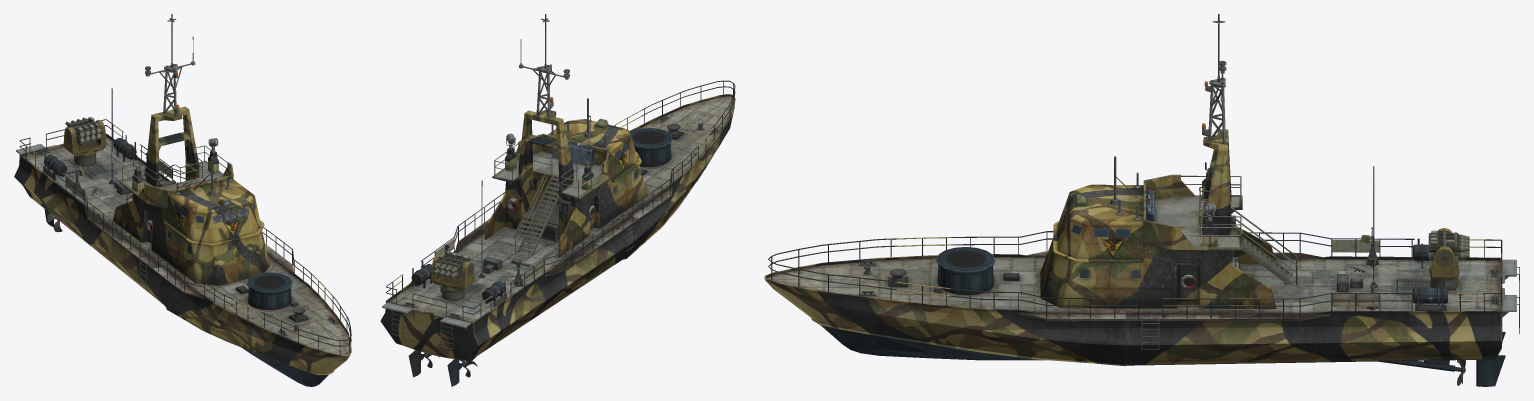
The model's file is Crocodile Gunboat.obj.
The picture shows the model from 3 angles, left to right: view 1: azimuth 30°, elevation 25°; view 2: azimuth 150°, elevation 25°; view 3: azimuth 270°, elevation 25°; orthographic projection. The views are drawn at different scales.
Visible parts, largest first — view 1: DrawCall_0657, DrawCall_0652, DrawCall_0668, DrawCall_0671, DrawCall_0672, DrawCall_0781; view 2: DrawCall_0657, DrawCall_0652, DrawCall_0668, DrawCall_0671, DrawCall_0672, DrawCall_0666, DrawCall_0658; view 3: DrawCall_0652, DrawCall_0657, DrawCall_0668, DrawCall_0672, DrawCall_0671, DrawCall_0654.
Part boxes in pixels (x1,y1,x2,y2): DrawCall_0657: (22,14,350,355); DrawCall_0652: (14,88,351,386); DrawCall_0668: (16,144,269,285); DrawCall_0671: (63,120,106,156); DrawCall_0672: (65,117,101,145); DrawCall_0781: (173,202,255,223); DrawCall_0657: (388,14,733,322); DrawCall_0652: (380,80,735,360); DrawCall_0668: (382,119,647,329); DrawCall_0671: (431,254,475,290); DrawCall_0672: (433,251,470,278); DrawCall_0666: (552,138,594,166); DrawCall_0658: (391,223,633,349); DrawCall_0652: (764,166,1502,371); DrawCall_0657: (766,14,1500,321); DrawCall_0668: (1040,184,1516,317); DrawCall_0672: (1428,230,1469,260); DrawCall_0671: (1429,228,1458,278); DrawCall_0654: (1476,355,1505,386).
Bounding box in the file's own units: 7.42 × 18.07 × 34.49.
